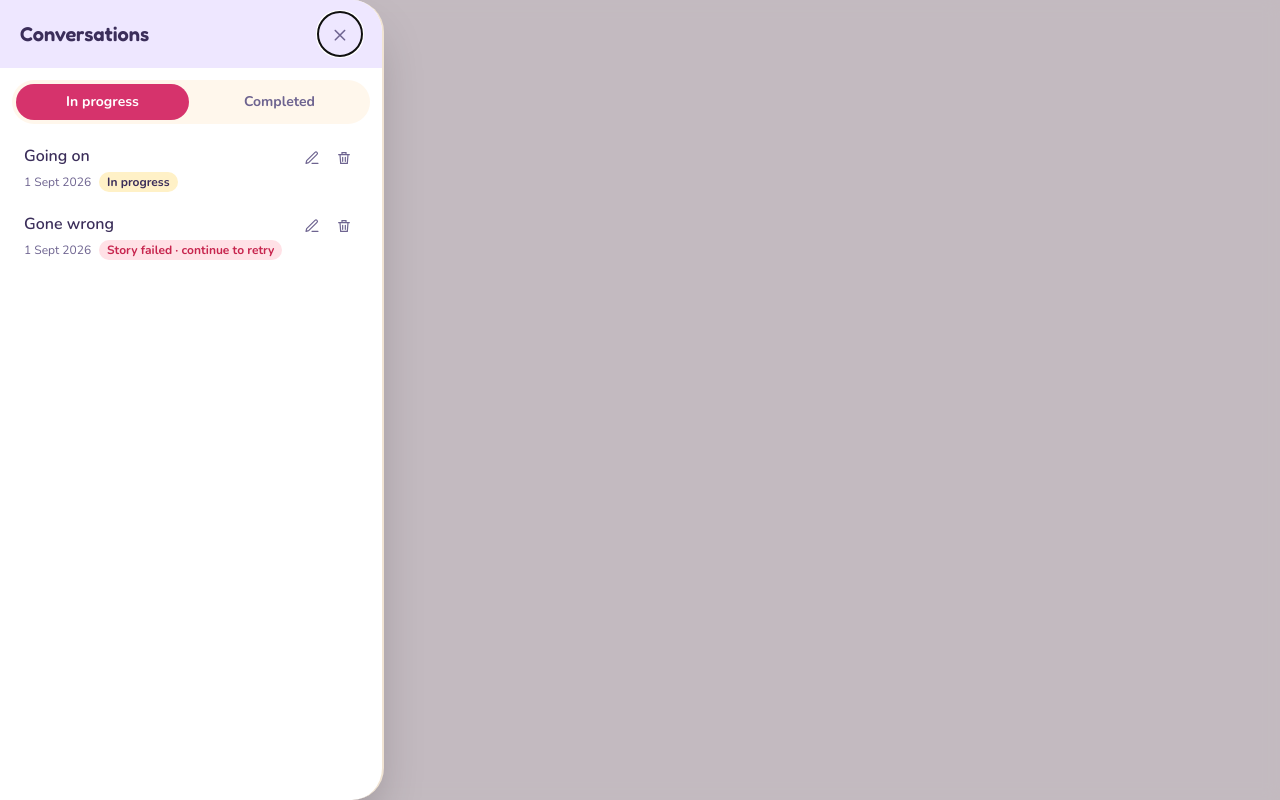
it: listing › says where each conversation stands
Expected: the button "Going on" is shown, [24,144,294,168]
Expected: the list item "Going on" shows "In progress", [107,174,170,190]
Step 1. Click the tab "Completed" → {"x": 280, "y": 102}, box [193,84,366,120]
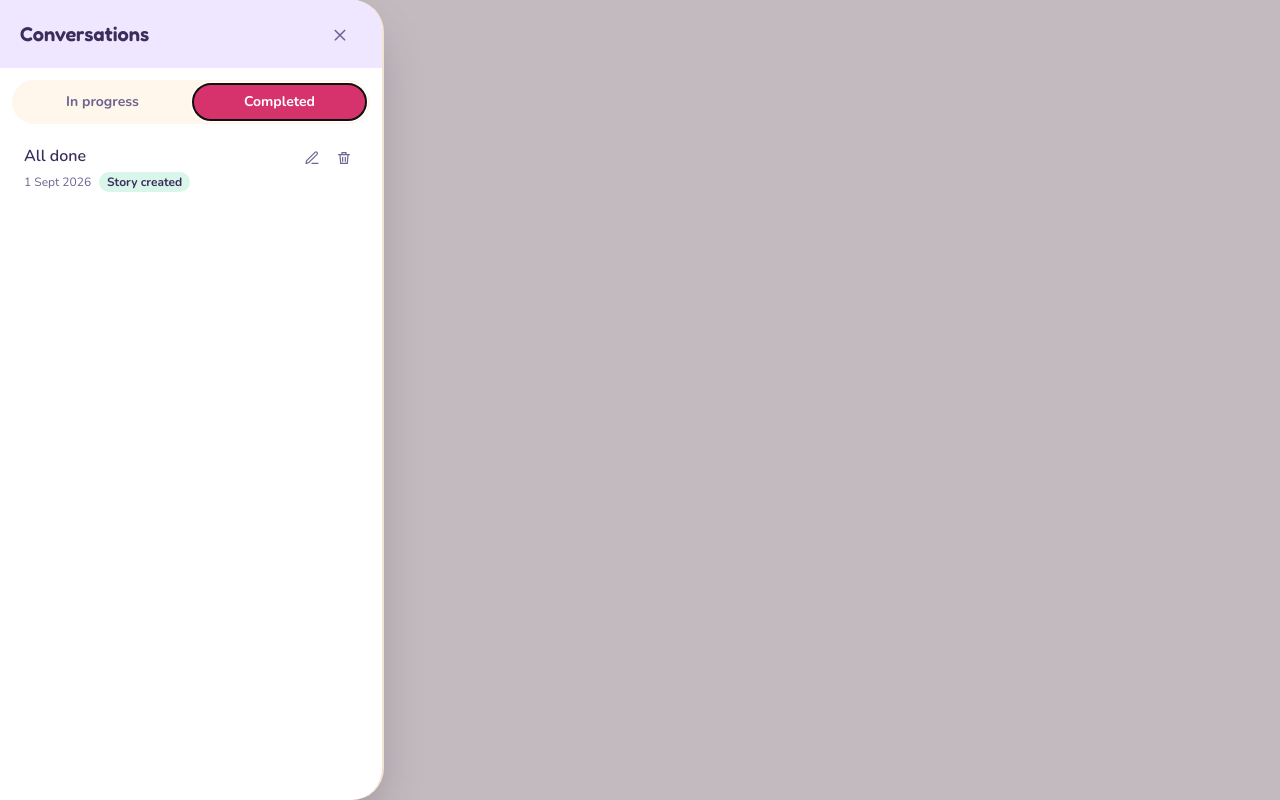
Expected: the list item "All done" shows "Story created", [107,174,182,190]
